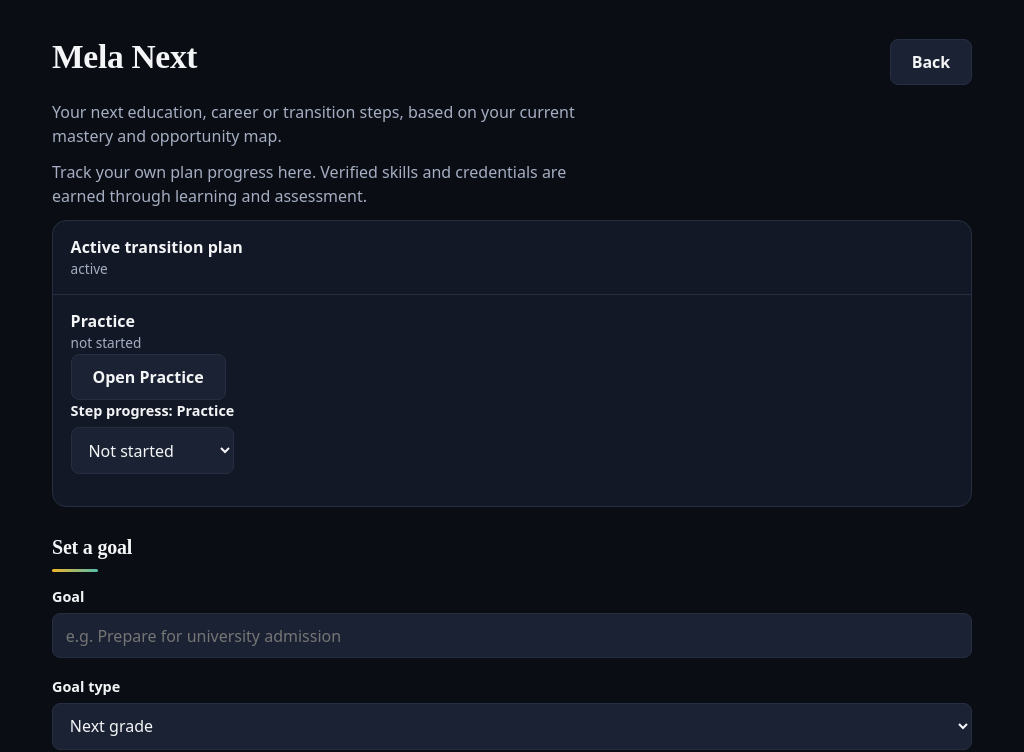
persists step completion scoped to its plan and restores server-confirmed progress
The width and height of the screenshot is (1024, 752).
Select "Completed" in the dropdown labelled "Step progress: Practice": (152, 450) [71,427,234,474]
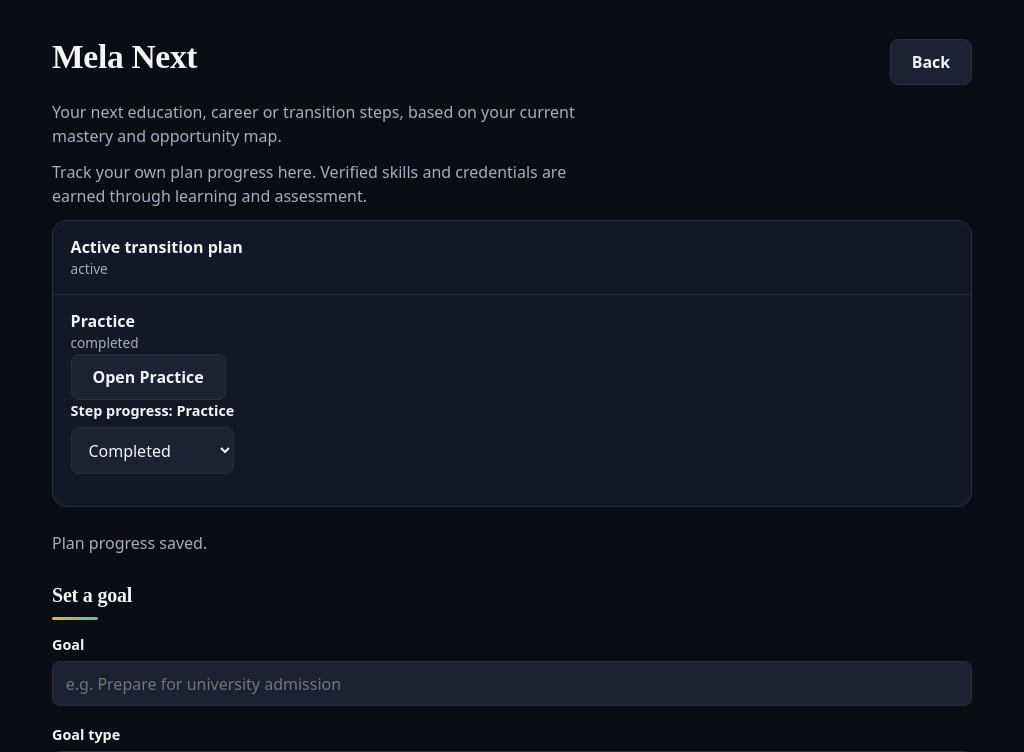
Expected: the text "Plan progress saved." is shown, [52,532,207,554]
